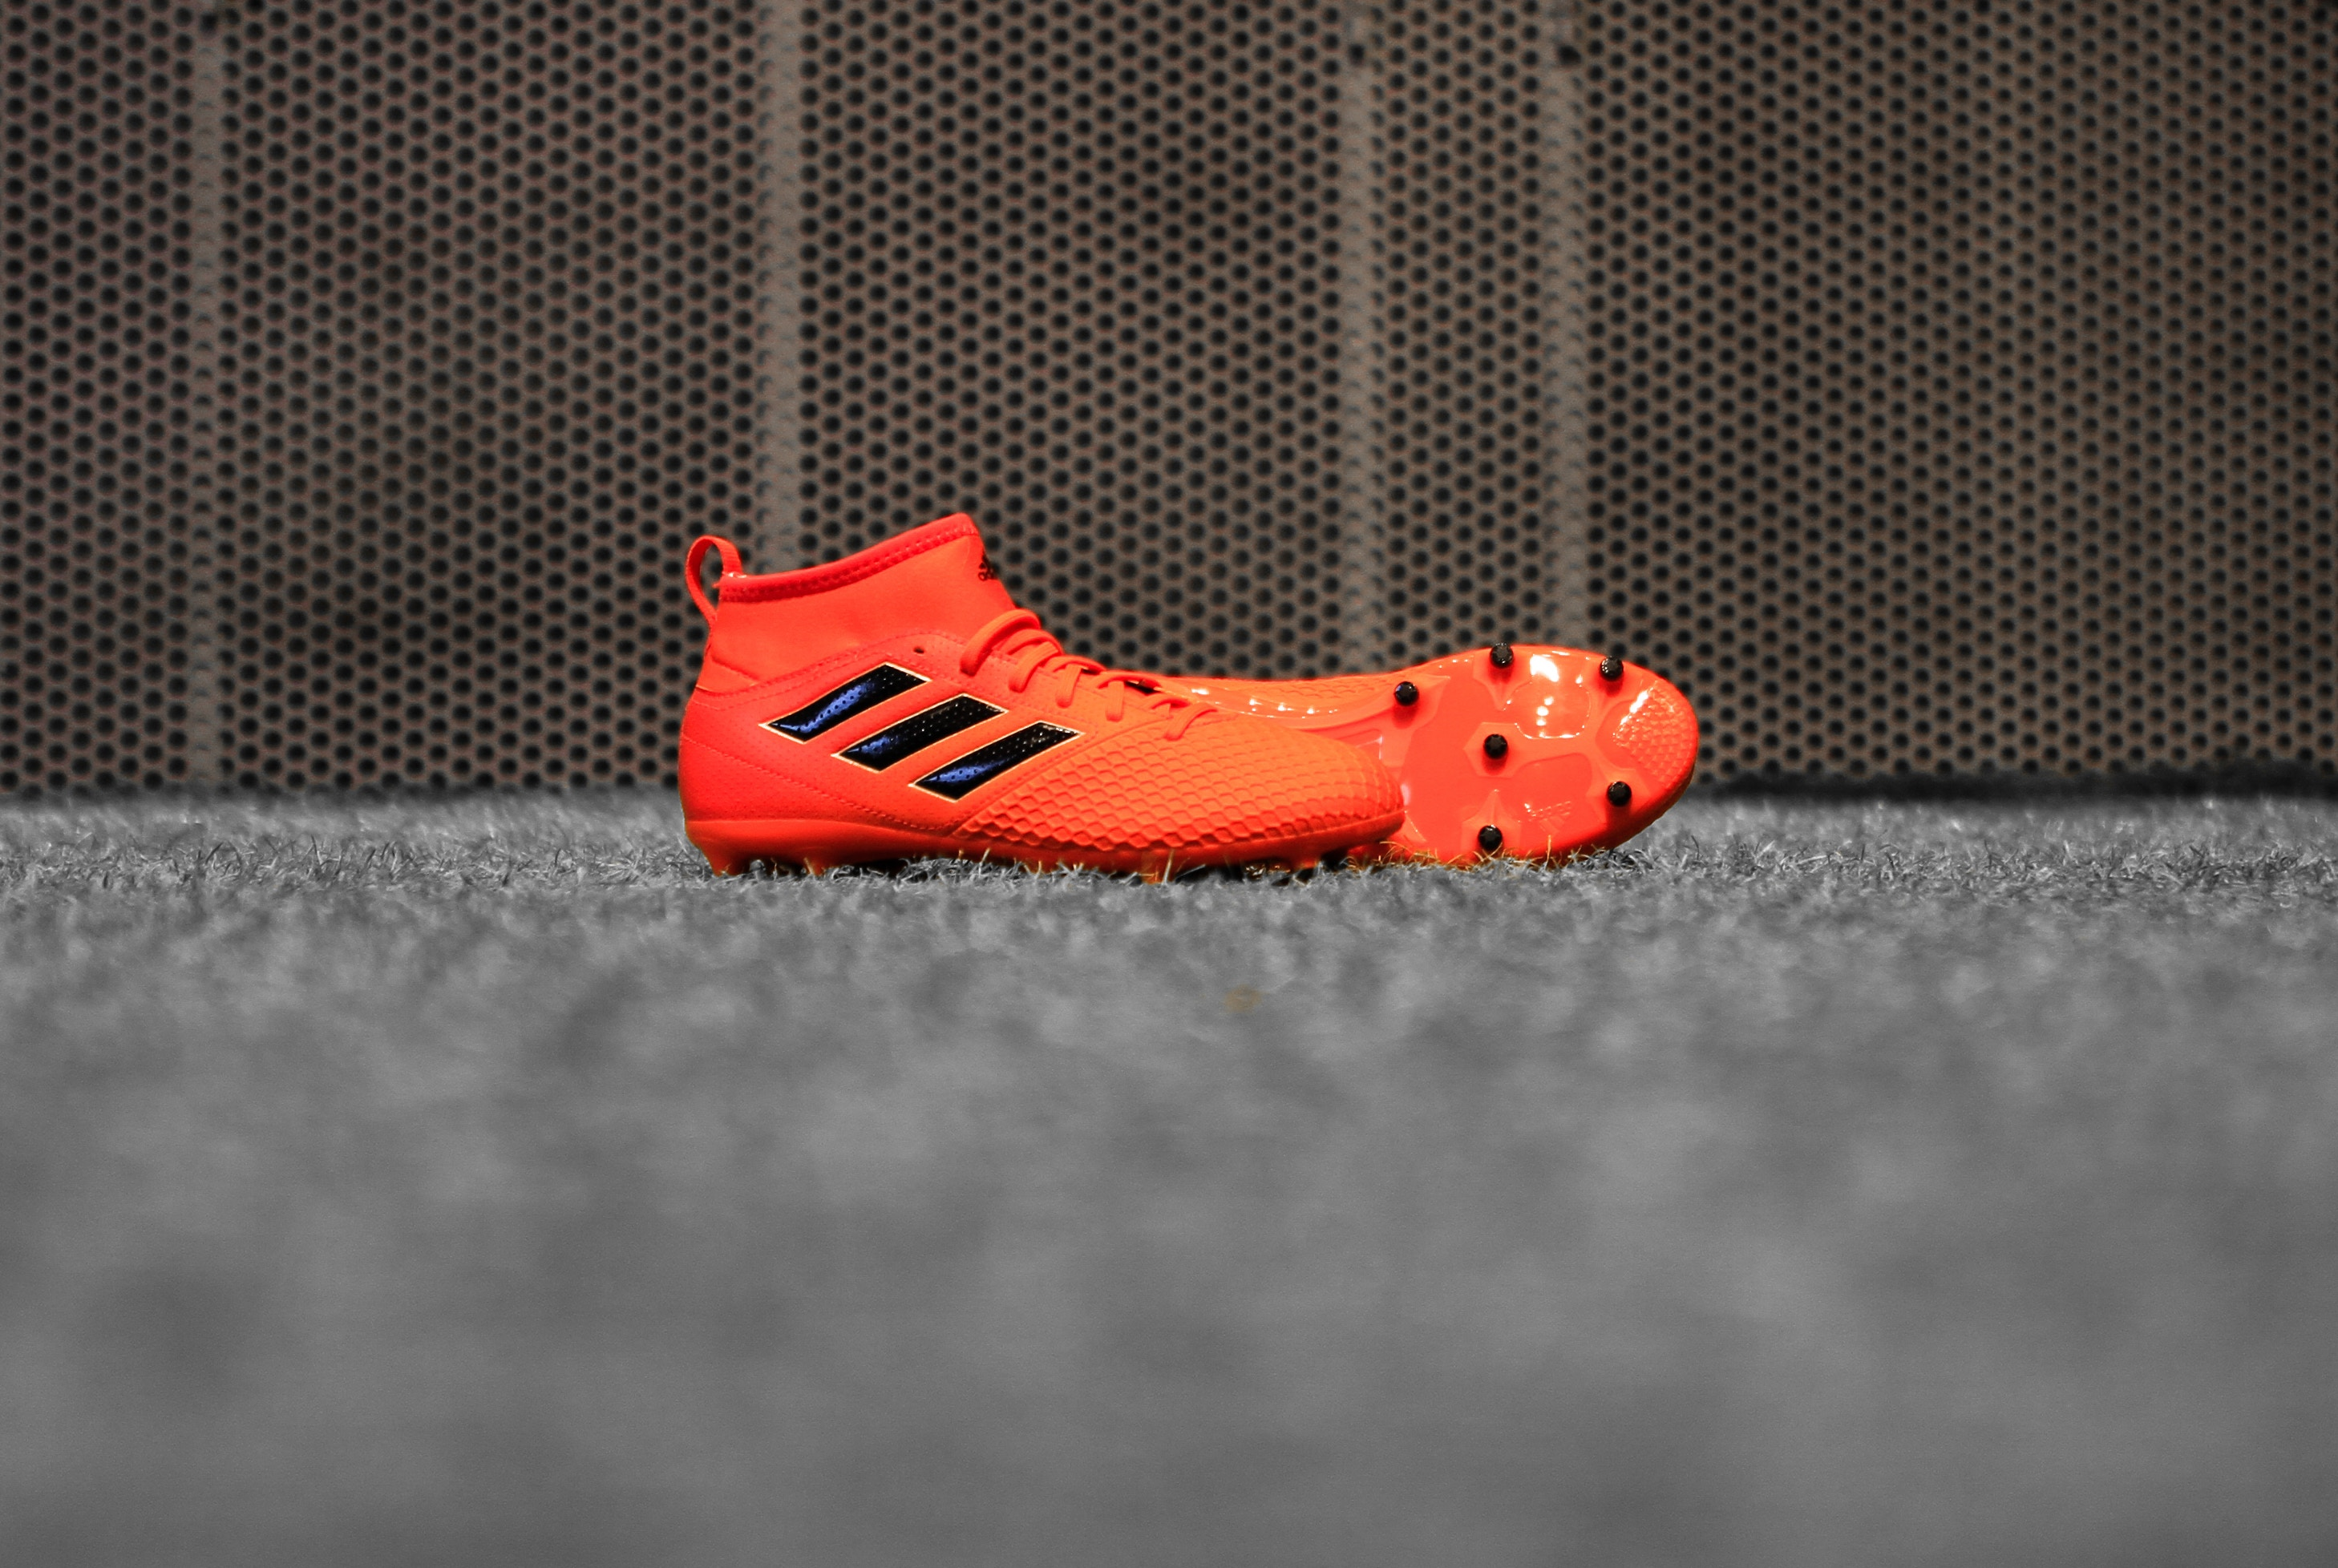soccer cleats: (630, 481, 1771, 926)
